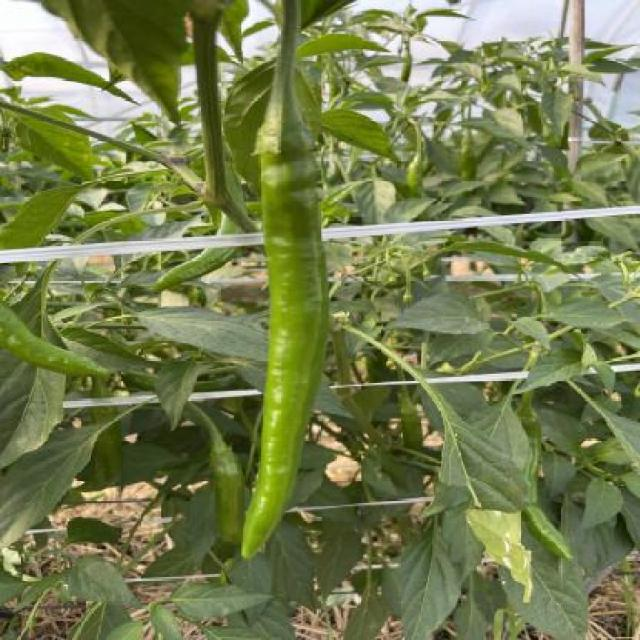green chilli: (240, 140, 329, 560)
